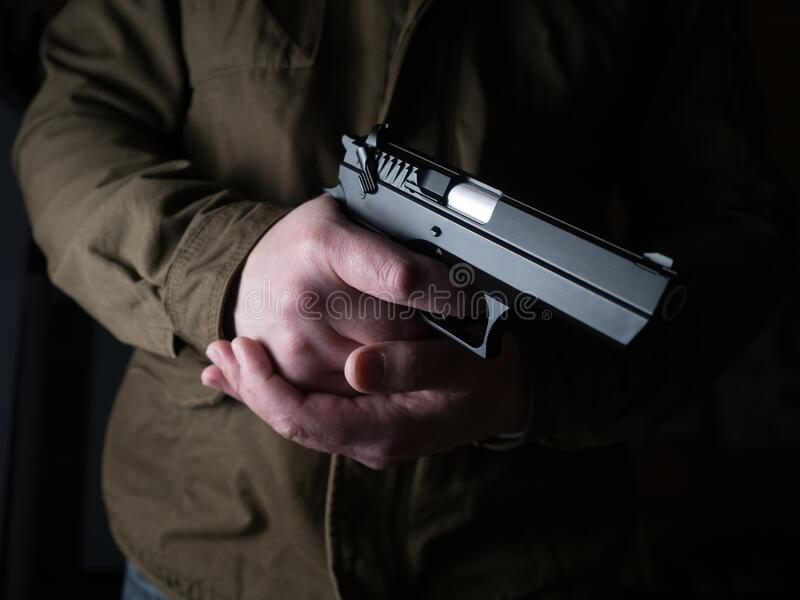weapon: (323, 118, 690, 368)
